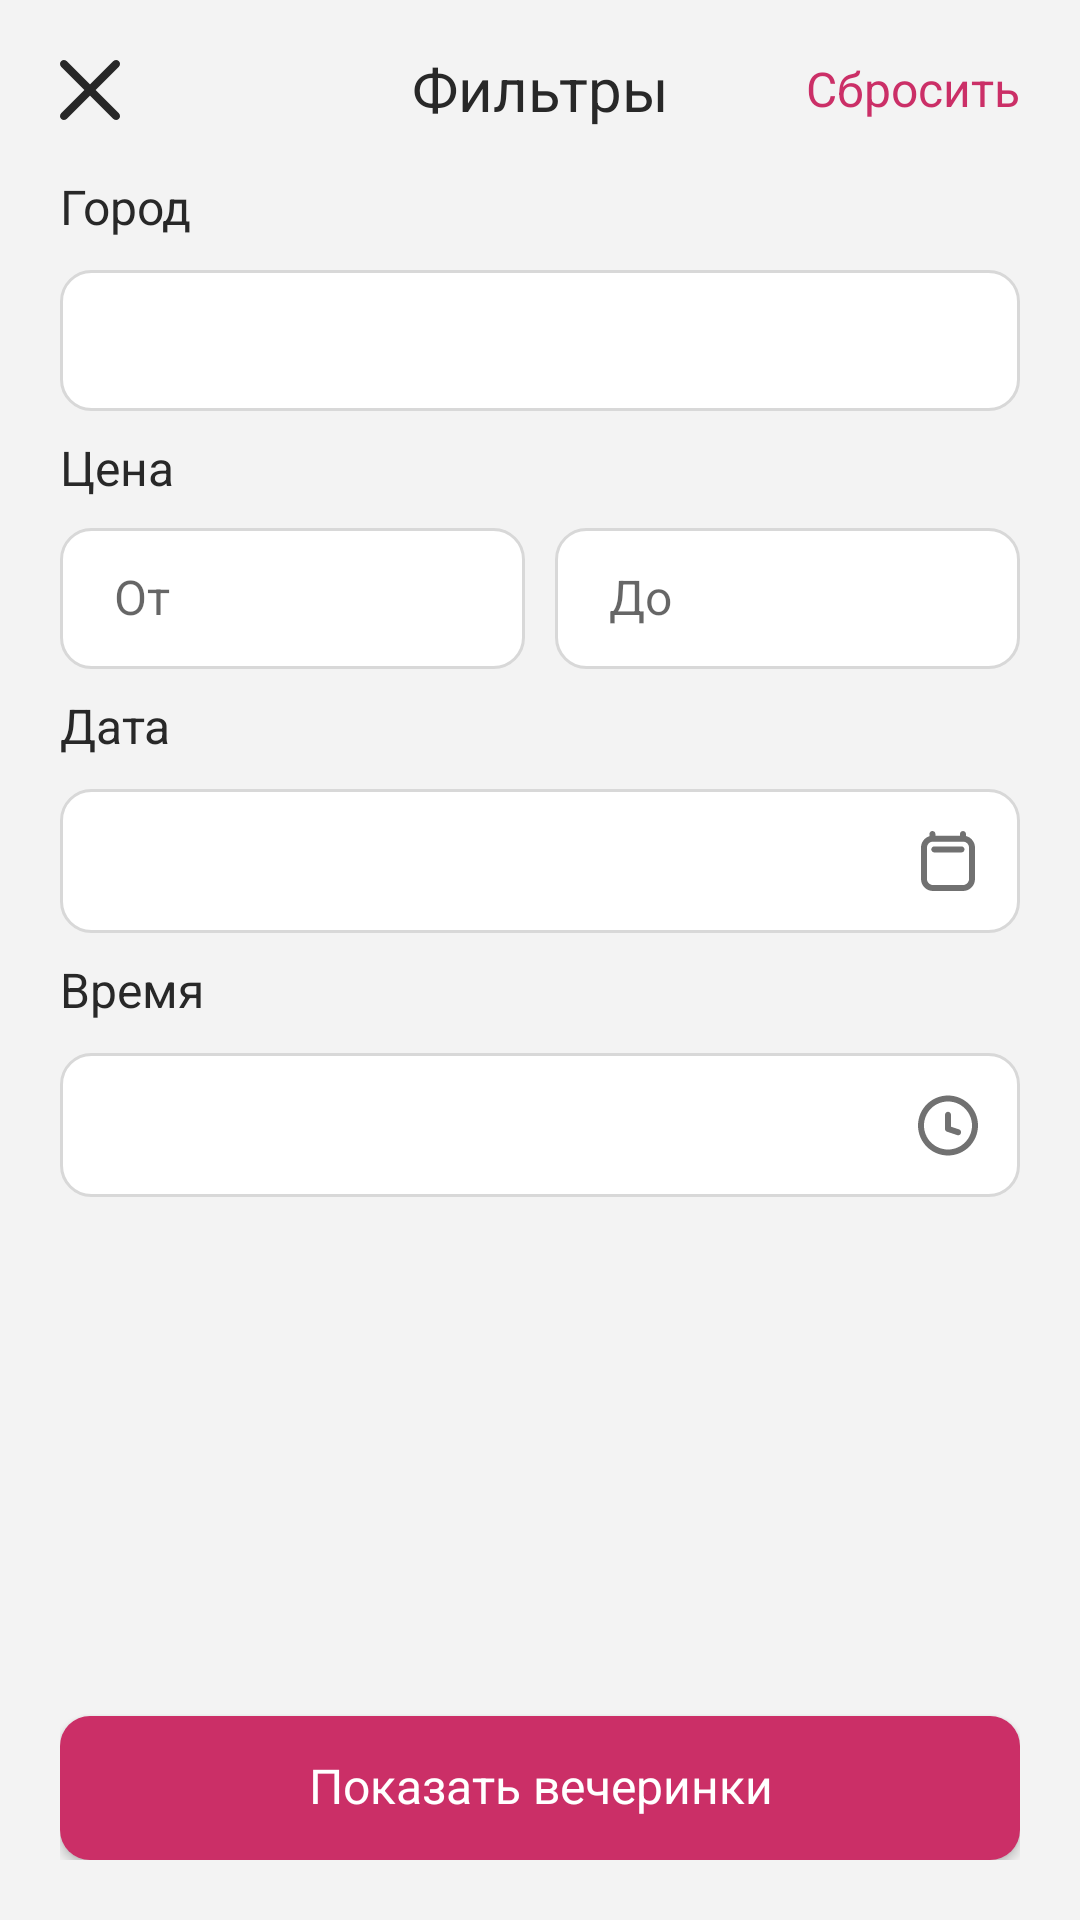

Point at icon controls on the screen. Image size 1080w x 1920h, points as point (x, y).
cross: point (90, 90)
